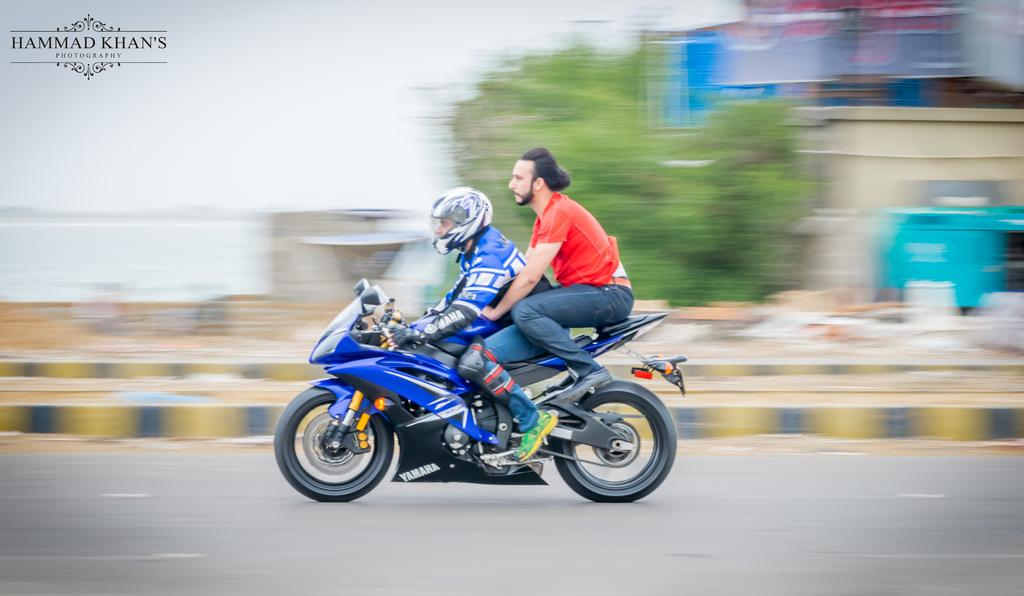helmet: (429, 187, 494, 256)
nohelmet: (508, 146, 560, 208)
